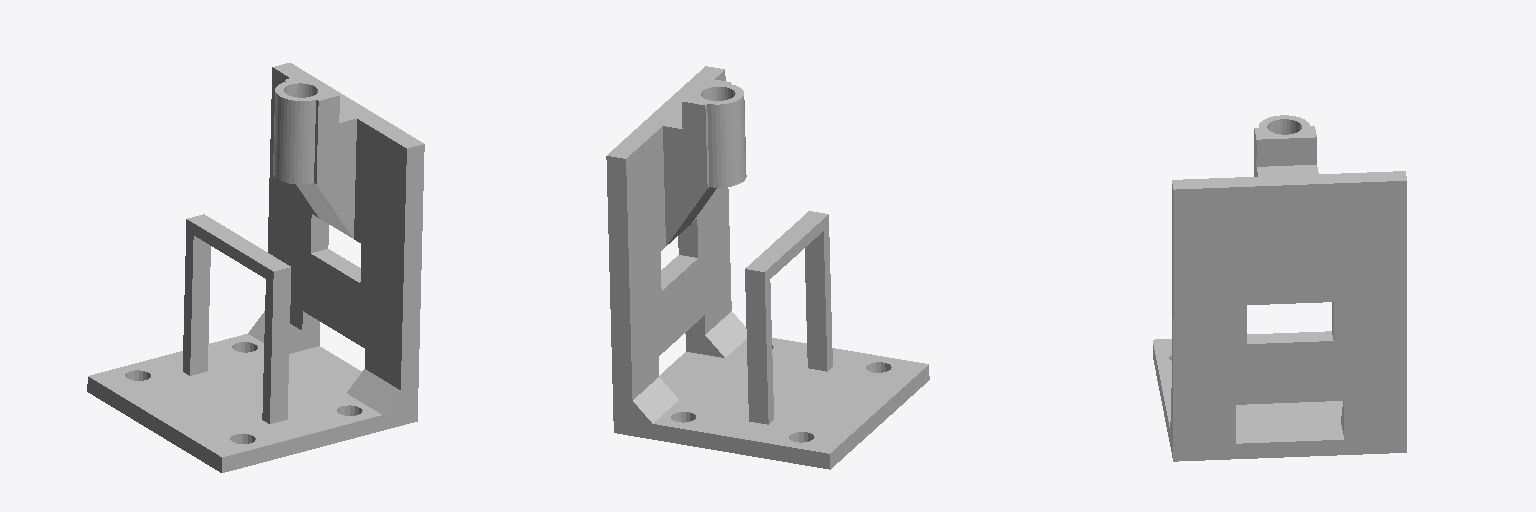
Rendered from Katownik_obj.obj.
The picture shows the model from 3 angles: view 1: azimuth 30°, elevation 25°; view 2: azimuth 150°, elevation 25°; view 3: azimuth 270°, elevation 25°; orthographic projection.
Visible parts, largest first — view 1: Bryła1, Bryła2; view 2: Bryła1, Bryła2; view 3: Bryła1, Bryła2.
Boxes of the visible parts, x1,y1,x2,y2 form: Bryła1: [87, 63, 424, 472]; Bryła2: [273, 74, 356, 238]; Bryła1: [606, 66, 929, 469]; Bryła2: [663, 78, 746, 245]; Bryła1: [1153, 171, 1406, 461]; Bryła2: [1254, 115, 1318, 176].
Bounding box in the file's own units: 61.39 × 77.61 × 58.66.